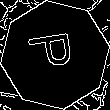P_E: (27, 32, 83, 78)
